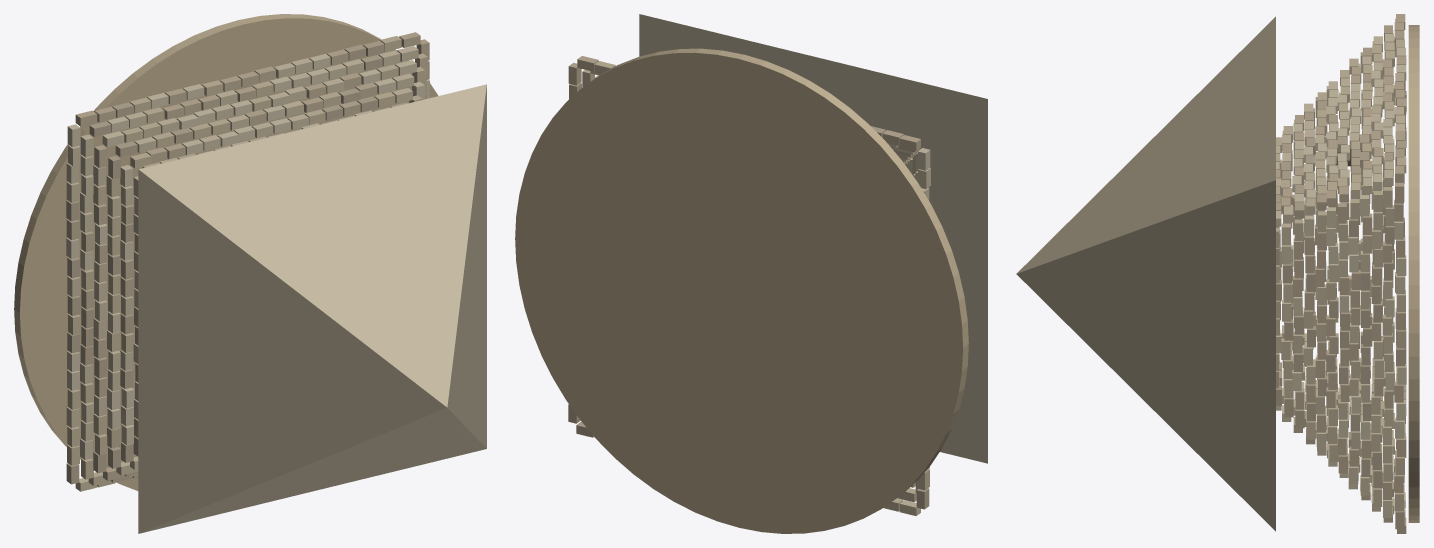
Rendered from gran-piramide-khufu.glb.
3 renders of one model, left to right at view 1: azimuth 30°, elevation 25°; view 2: azimuth 150°, elevation 25°; view 3: azimuth 270°, elevation 25°, orthographic. The views are drawn at different scales.
Parts seen in each view (by area): view 1: Khufu_core, world, Giza_plateau; view 2: Giza_plateau, Khufu_core, world; view 3: Khufu_core, world, Giza_plateau.
Part boxes in pixels (<box>): Khufu_core: <box>138,84,486,533</box>; world: <box>66,32,429,491</box>; Giza_plateau: <box>14,14,438,490</box>; Giza_plateau: <box>515,48,968,533</box>; Khufu_core: <box>639,14,987,463</box>; world: <box>568,56,930,515</box>; Khufu_core: <box>1016,16,1275,531</box>; world: <box>1276,14,1406,533</box>; Giza_plateau: <box>1408,25,1419,522</box>.
Size of the model in its own units: 7.2 by 7.2 by 5.83.
